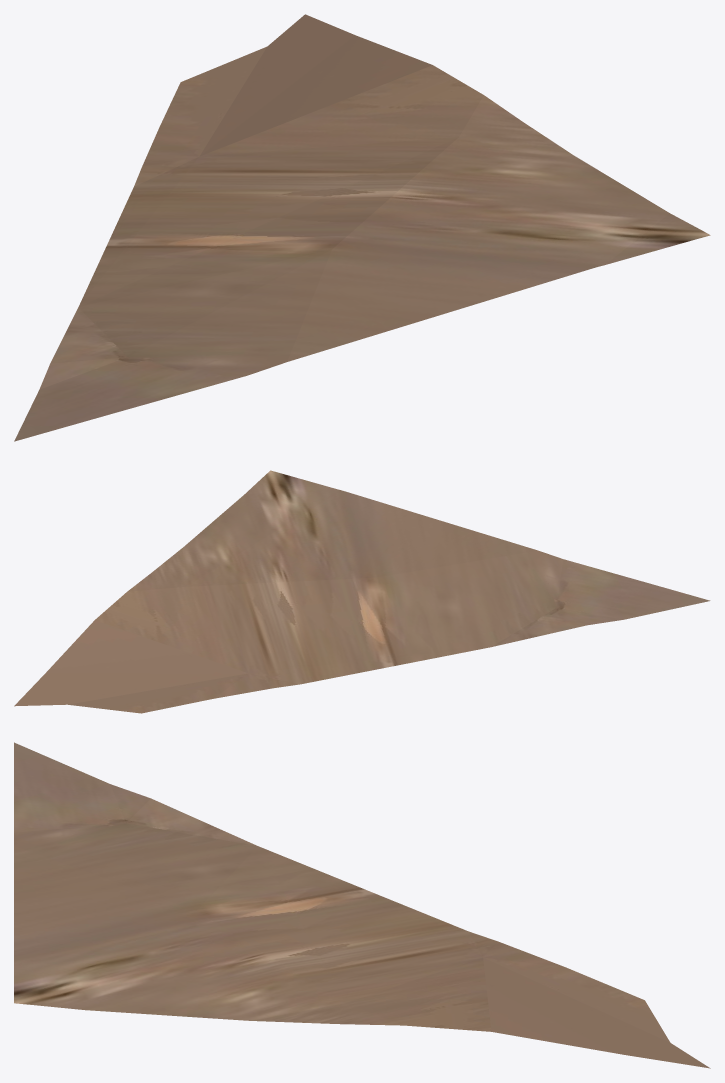
The picture shows the model from 3 angles, top to bottom: view 1: azimuth 30°, elevation 25°; view 2: azimuth 150°, elevation 25°; view 3: azimuth 270°, elevation 25°; orthographic projection. The views are drawn at different scales.
Size of the model in its own units: 2.03 by 0.2119 by 2.05.
2 materials, 2 textured.
